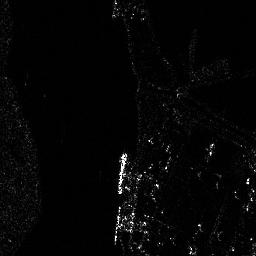ship: (116, 151, 128, 195)
